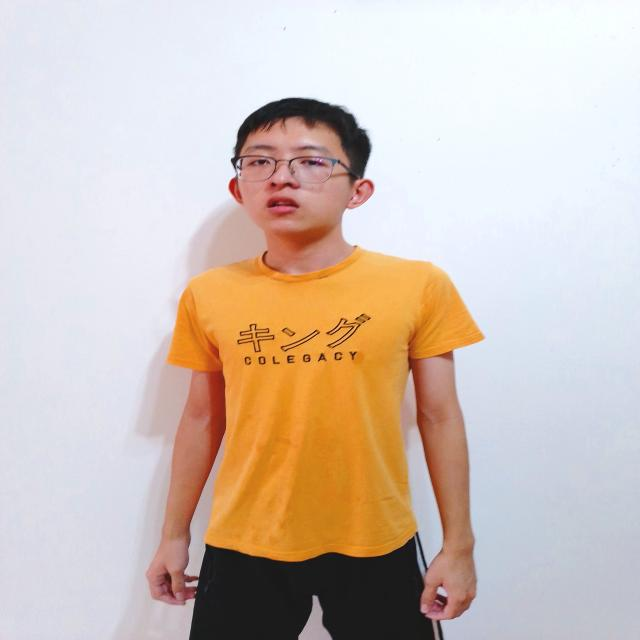person_without_labcoat: (147, 98, 483, 640)
